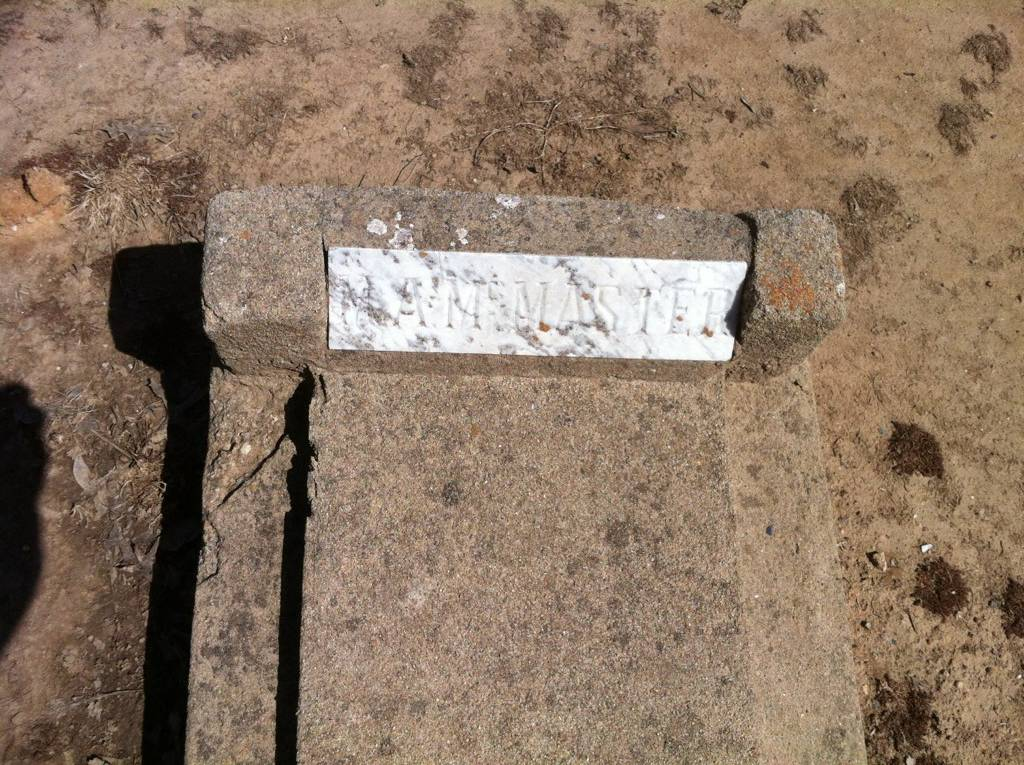plaque: (187, 183, 873, 765)
